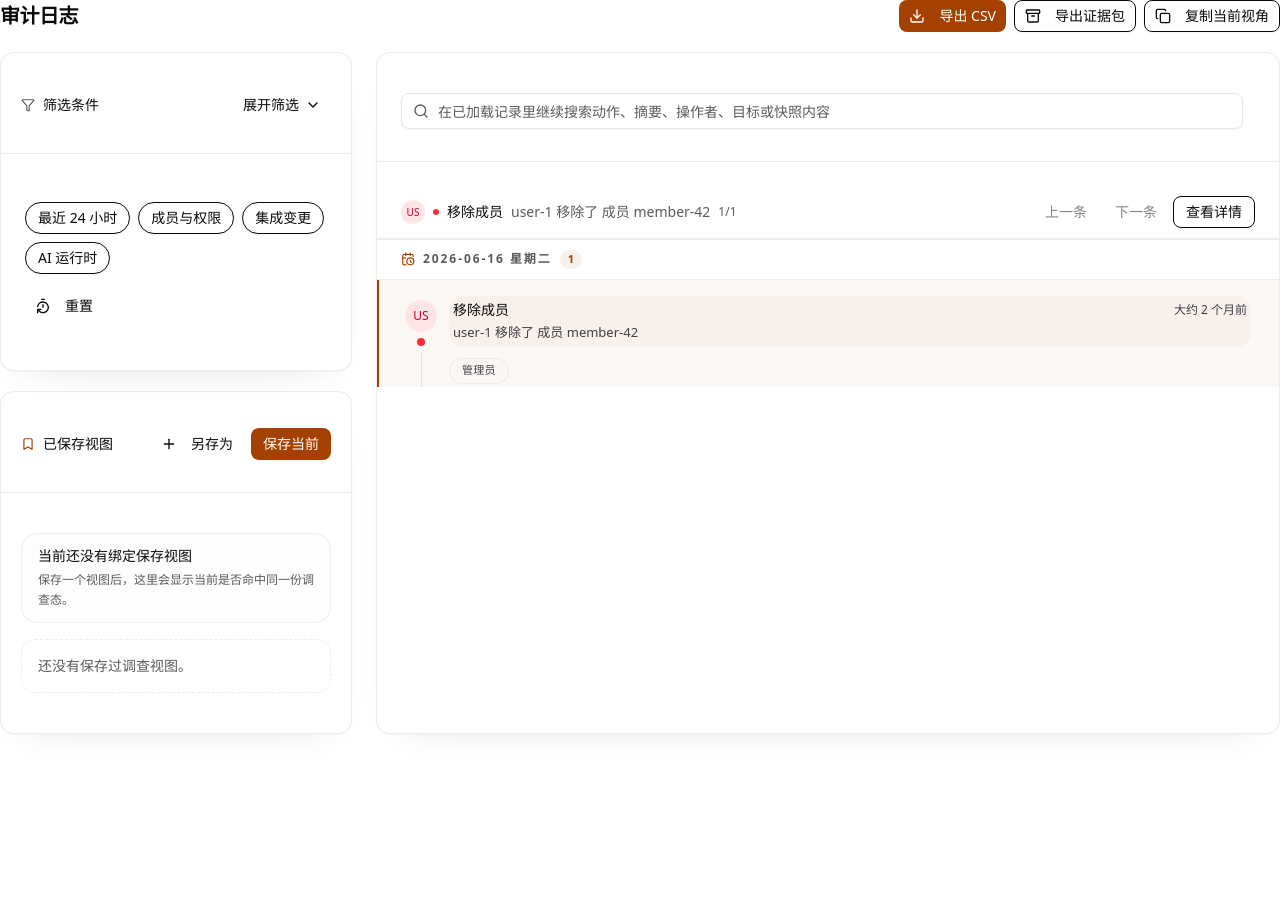
Scenario: AuditLogPage › saves the current investigation view into the saved views sidebar
Click the button "保存当前" at [291, 444], box [251,428,331,460]
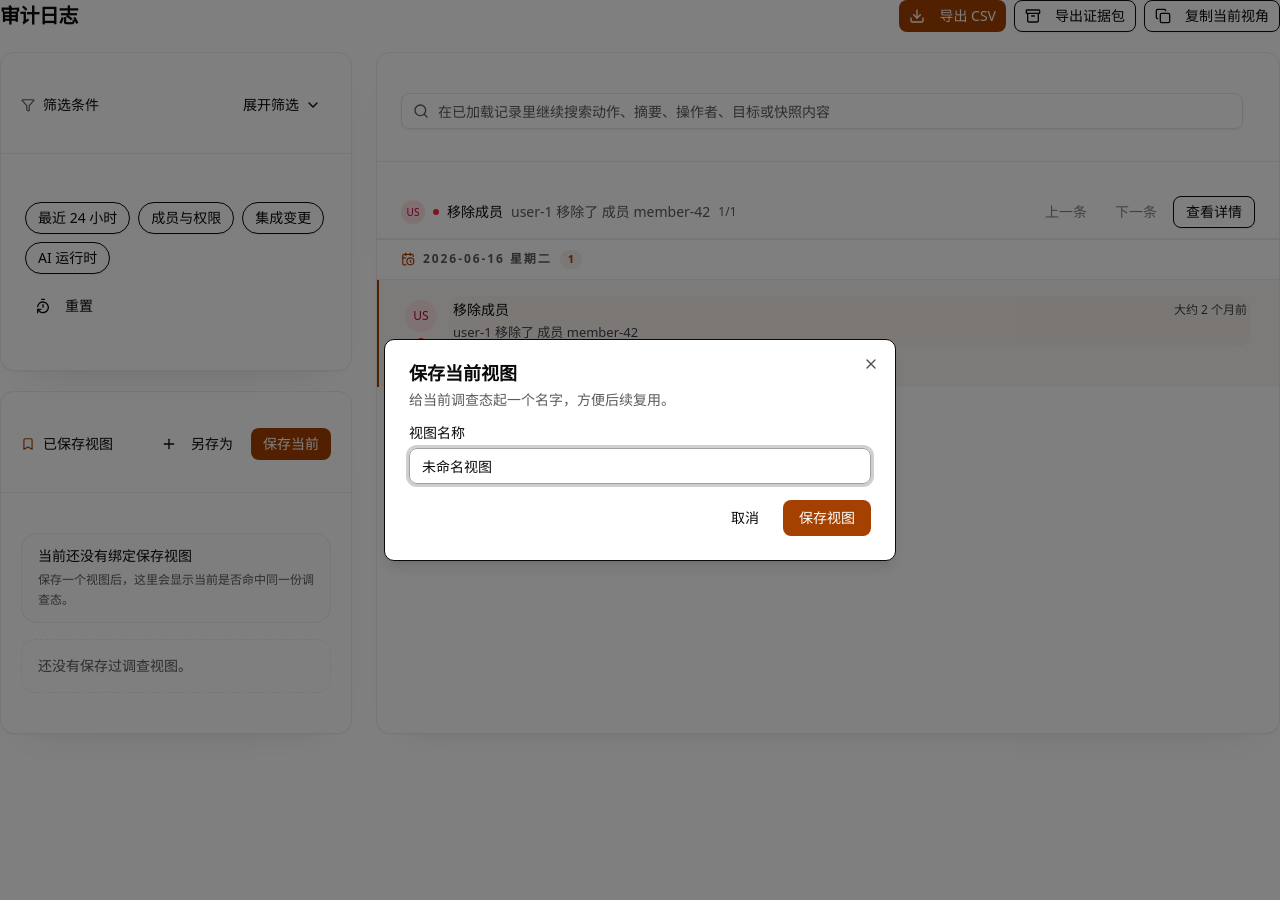
Replace the text in the field labelled "视图名称" with "成员删除排查" at [640, 466], box [409,448,871,484]
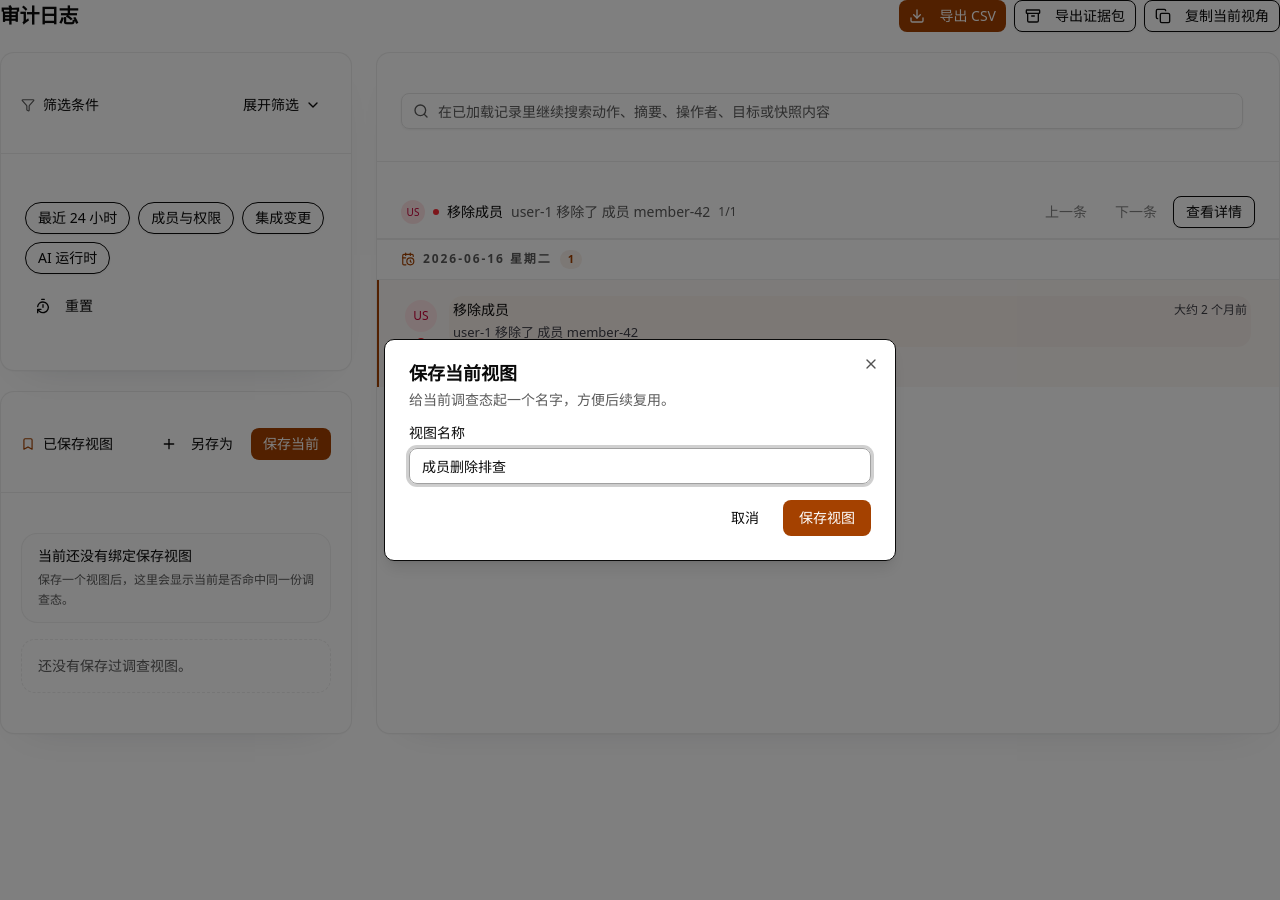
Click the button "保存视图" at [827, 518], box [783,500,871,536]
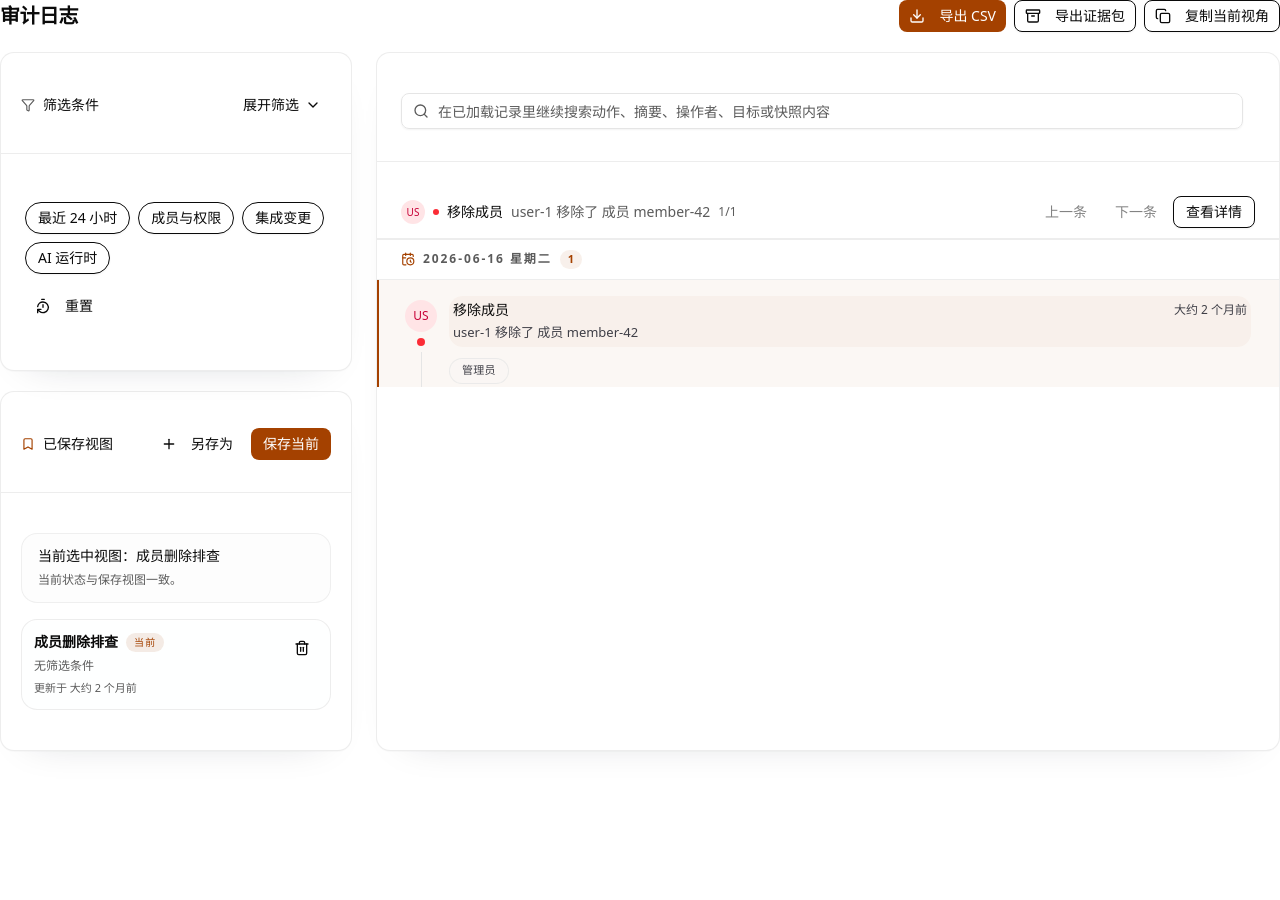
Result: the text "当前选中视图：成员删除排查" is shown at [38,546,220,565]
